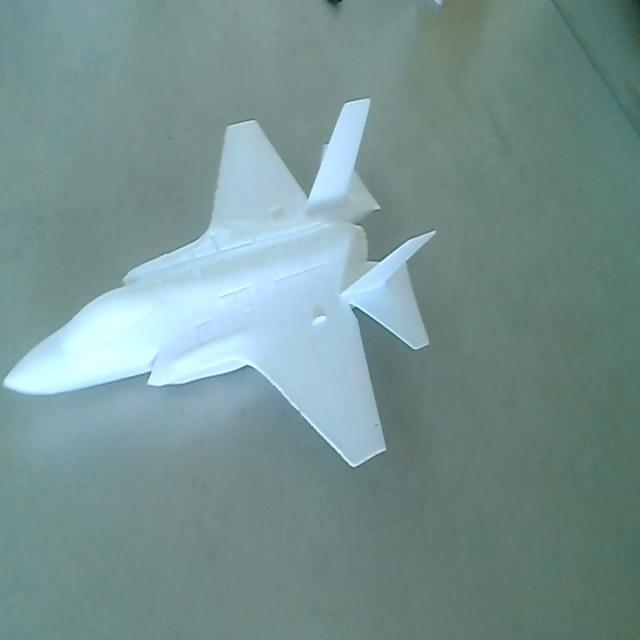Jet: (5, 96, 439, 485)
